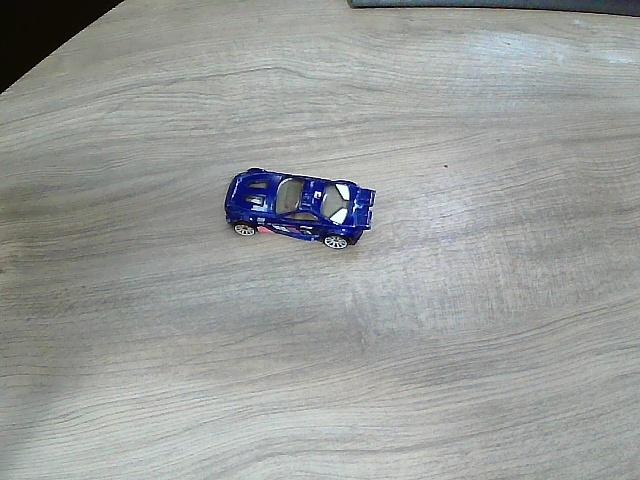Carro: (225, 169, 375, 250)
